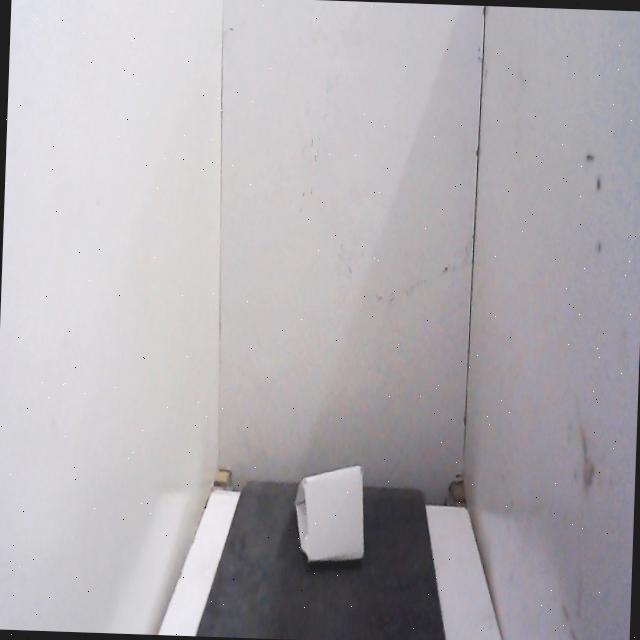papel: (289, 449, 376, 568)
